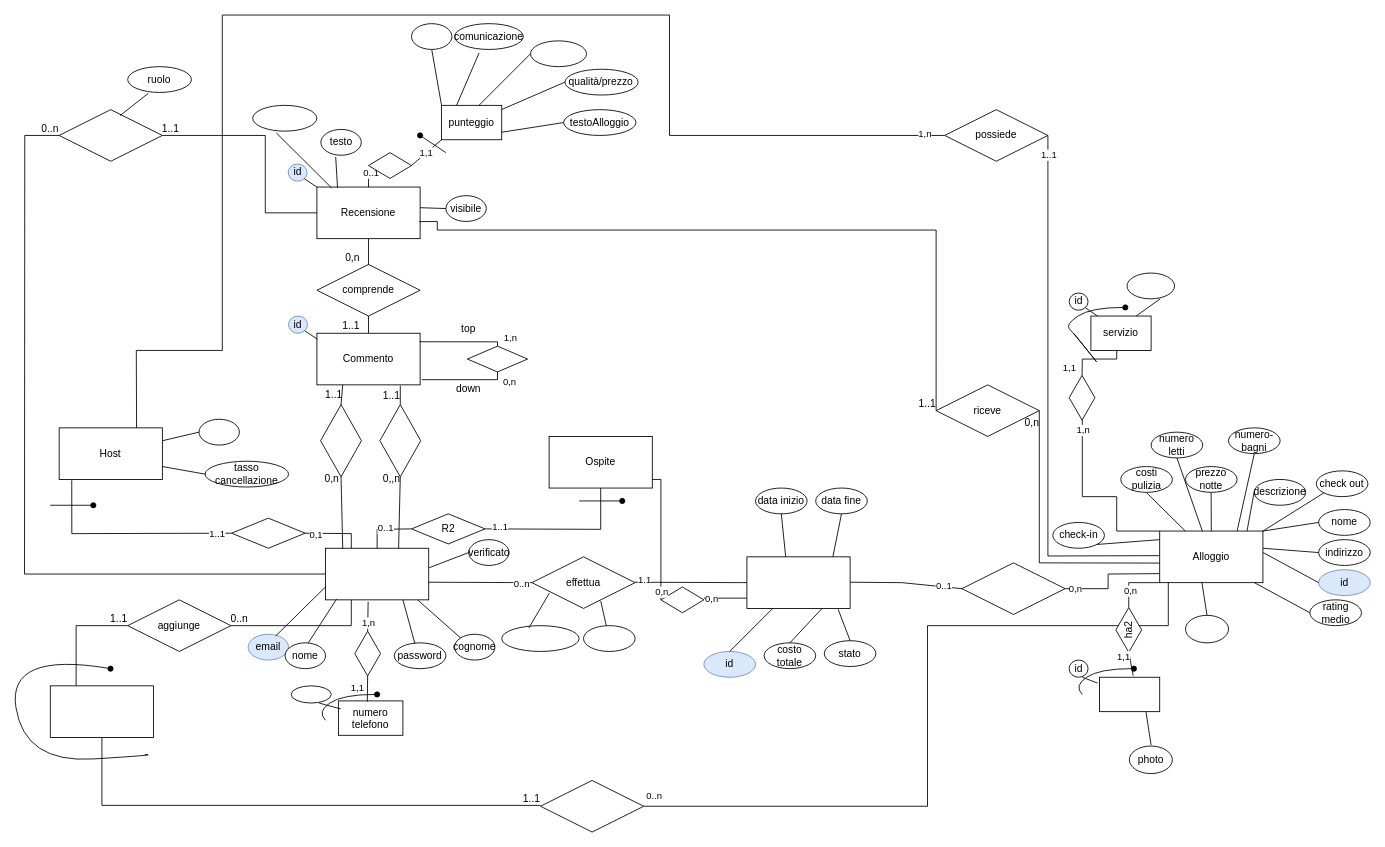
This 1385x847 diagram has some shape labels left out. Here are the shapes that lost their labels. From the top down, the box of each, then its label:
(411, 23, 452, 49): pulzia
(530, 40, 587, 67): posizione
(58, 109, 162, 161): valuta
(252, 104, 317, 131): data recensione
(368, 152, 412, 178): include
(1126, 272, 1175, 299): tipo servizio
(467, 345, 528, 372): interazione
(1068, 375, 1095, 420): ha3
(198, 418, 239, 445): badge
(320, 404, 361, 477): mandante
(379, 404, 421, 477): ricevemente
(231, 517, 305, 548): R1
(325, 547, 429, 600): Utente
(746, 556, 850, 608): Prenotazione
(961, 562, 1065, 614): riserva
(660, 586, 704, 613): inclusi
(501, 625, 579, 651): metodo pagamento
(583, 625, 635, 651): pagamento
(1185, 614, 1229, 643): tipo alloggio
(354, 630, 381, 676): ha1
(49, 685, 154, 737): Preferiti
(290, 685, 331, 703): numero
(1099, 676, 1160, 712): photoAlloggio
(540, 780, 644, 832): selezionato
